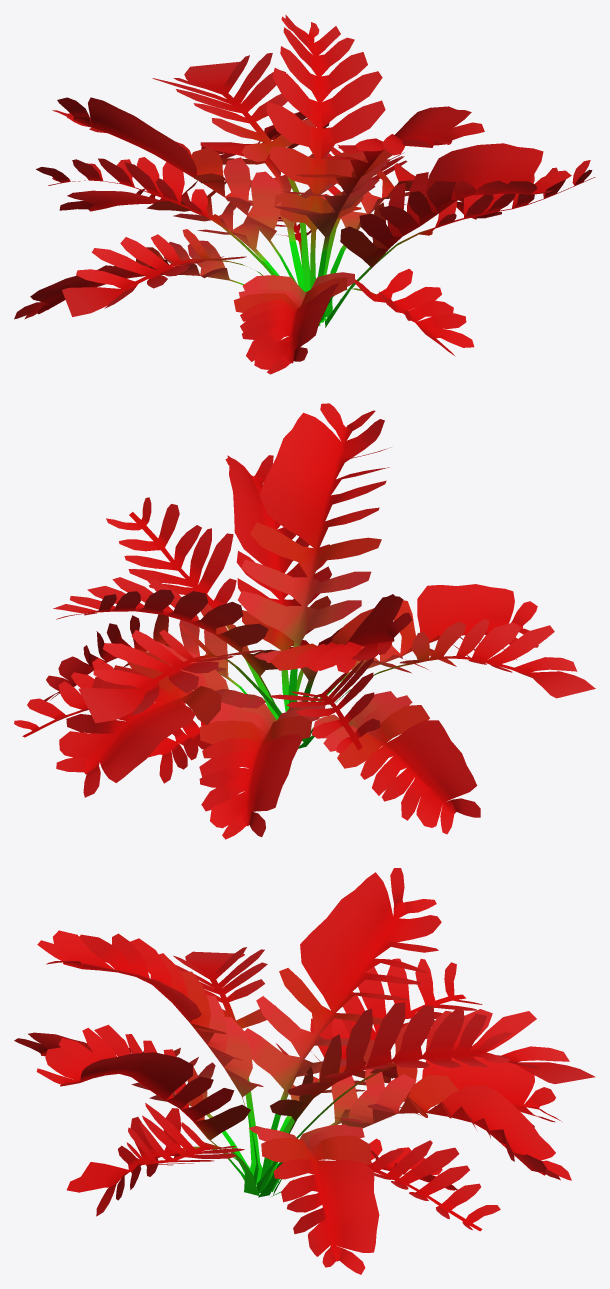
File: Var1_LOD0.fbx
The picture shows the model from 3 angles, top to bottom: view 1: azimuth 30°, elevation 25°; view 2: azimuth 150°, elevation 25°; view 3: azimuth 270°, elevation 25°; orthographic projection. The views are drawn at different scales.
Visible parts, largest first — view 1: _2a01_Var1_LOD0; view 2: _2a01_Var1_LOD0; view 3: _2a01_Var1_LOD0.
Boxes of the visible parts, box(x1,y1,x2,y2) form: _2a01_Var1_LOD0: box(14, 14, 595, 374); _2a01_Var1_LOD0: box(14, 403, 595, 839); _2a01_Var1_LOD0: box(14, 868, 595, 1274).
Bounding box in the file's own units: 181 × 87.57 × 174.
